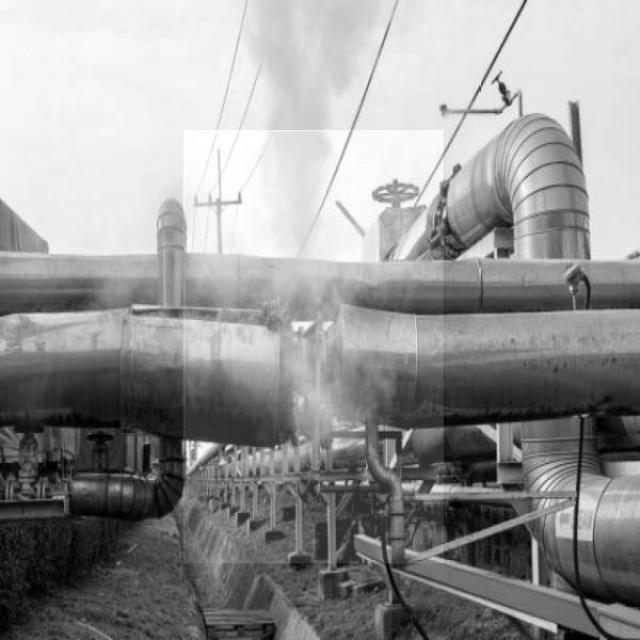corrosion: (183, 130, 444, 563)
